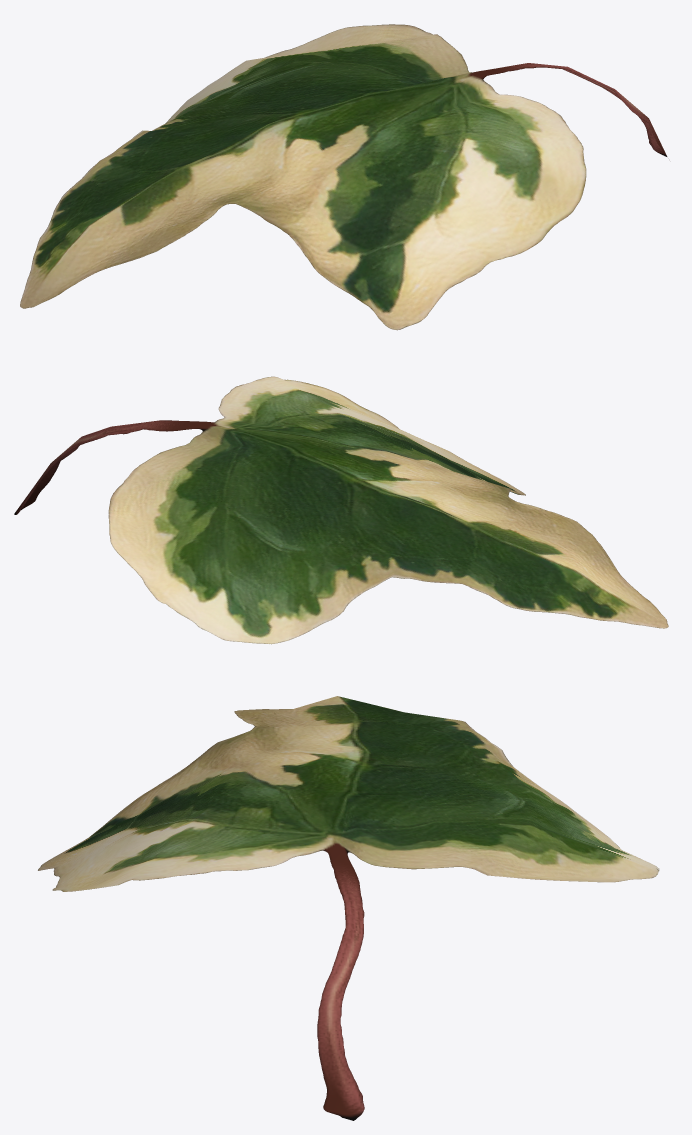
File: hedraleave4.fbx
The picture shows the model from 3 angles, top to bottom: view 1: azimuth 30°, elevation 25°; view 2: azimuth 150°, elevation 25°; view 3: azimuth 270°, elevation 25°; orthographic projection. The views are drawn at different scales.
Visible parts, largest first — view 1: hedraleave4; view 2: hedraleave4; view 3: hedraleave4.
Part boxes in pixels (box(x1,y1,x2,y2)): hedraleave4: box(20, 24, 667, 330); hedraleave4: box(14, 376, 668, 644); hedraleave4: box(38, 696, 659, 1120).
Bounding box in the file's own units: 1.01 × 0.1971 × 0.7369.
